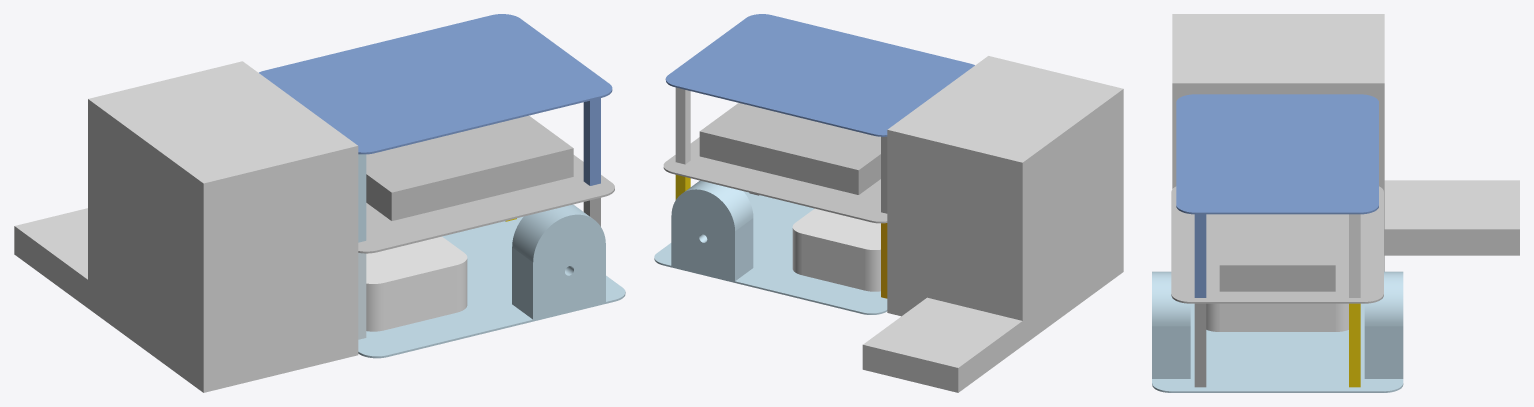
The model's file is base_link_trailer.dae.
3 views of the same model, side by side, from view 1: azimuth 30°, elevation 25°; view 2: azimuth 150°, elevation 25°; view 3: azimuth 270°, elevation 25° (orthographic). The views are drawn at different scales.
Visible parts, largest first — view 1: base_link, trailer, Cube; view 2: base_link, trailer, Cube; view 3: base_link, trailer, Cube.
Part boxes in pixels (x1,y1,x2,y2): base_link: (259,14,625,358); trailer: (88,61,358,392); Cube: (14,208,87,307); base_link: (654,14,974,314); trailer: (887,56,1123,345); Cube: (862,297,1022,392); base_link: (1152,94,1403,392); trailer: (1172,14,1384,271); Cube: (1384,180,1519,255).
Bounding box in the file's own units: 0.2301 × 0.1904 × 0.1212.
